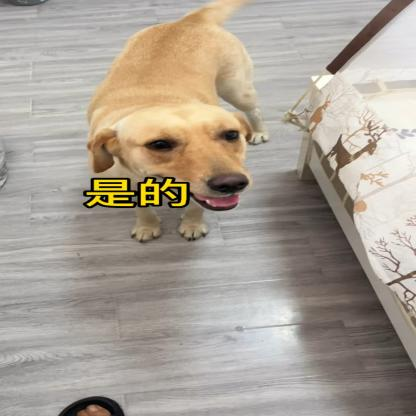Labarador Retriever: (96, 1, 265, 246)
